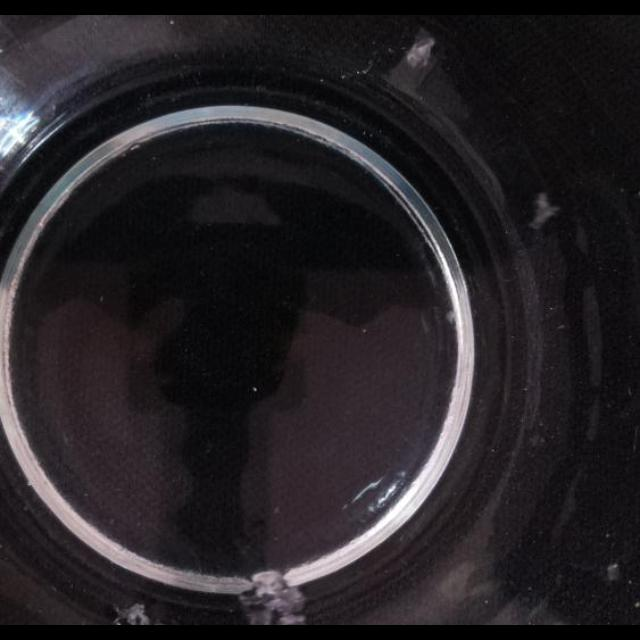Fibre: (232, 574, 314, 626), (110, 597, 154, 625), (422, 266, 442, 312)
microbeads: (606, 562, 622, 582), (444, 308, 456, 324), (251, 387, 257, 393)
